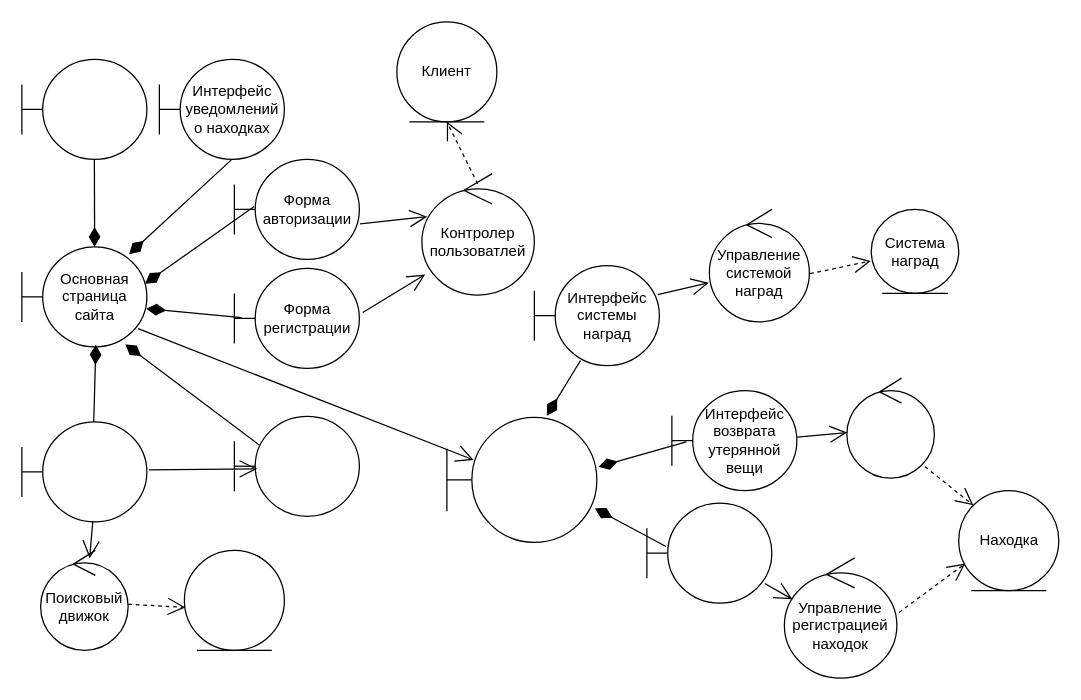
This 1081x700 diagram has some shape labels left out. Here are the shapes that lost their labels. From the top down, the centre of each, then its label:
At pixel 84 108: "Страница советов по сохранности".
At pixel 890 427: "Управление возвратом".
At pixel 84 471: "Система поиска".
At pixel 296 465: "Список потерянных вещей".
At pixel 521 479: "Интерфейс авторизованного пользователя".
At pixel 709 552: "Интерфейс регистрации находки".
At pixel 233 599: "Потерянные вещи по результатам поиска".
